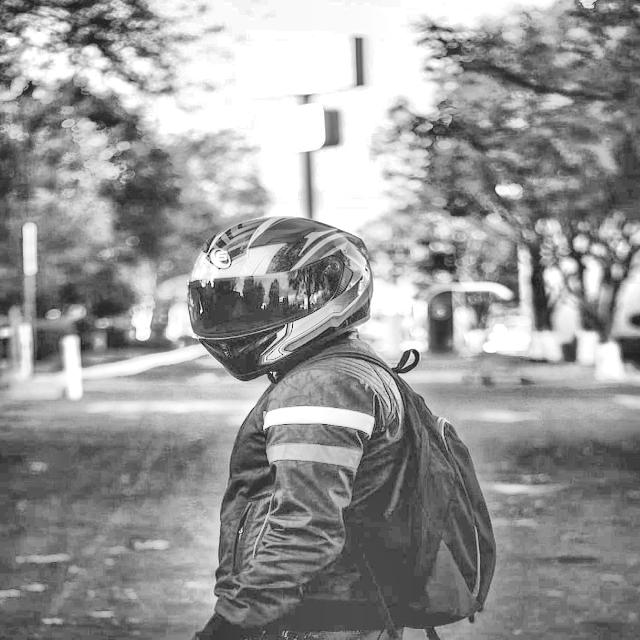Helmet: (184, 214, 380, 385)
